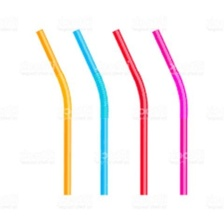drinking_straw: (101, 27, 153, 198), (31, 25, 77, 198), (149, 25, 193, 198), (69, 25, 112, 198)
